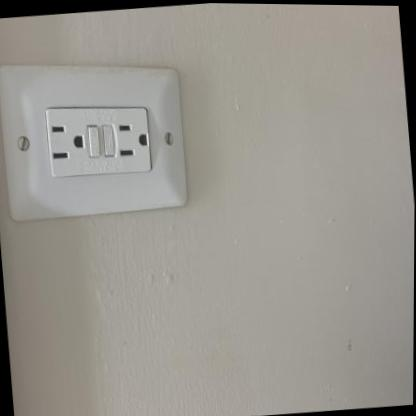OUTLET: (0, 62, 191, 224)
